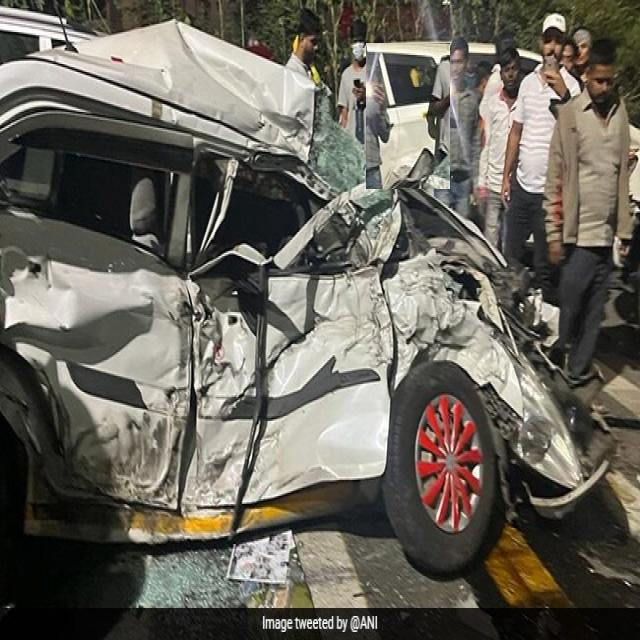accident: (0, 22, 610, 598)
car: (366, 43, 450, 189), (0, 6, 95, 62), (469, 43, 495, 68)
